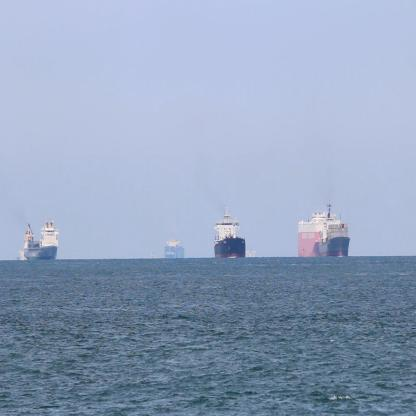Container Ship: (297, 201, 351, 257), (214, 202, 246, 258), (23, 214, 60, 260), (165, 236, 185, 258), (245, 249, 257, 257), (17, 248, 23, 260), (150, 250, 156, 260)
